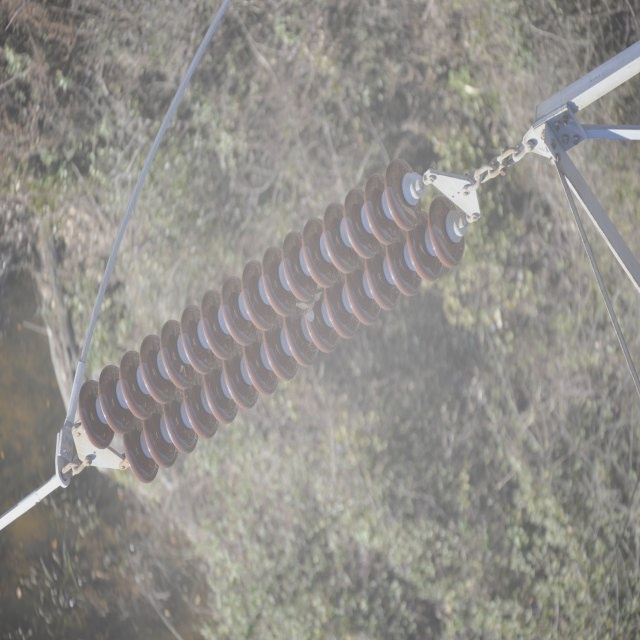broken: (304, 292, 321, 334)
insulator: (79, 157, 465, 484)
